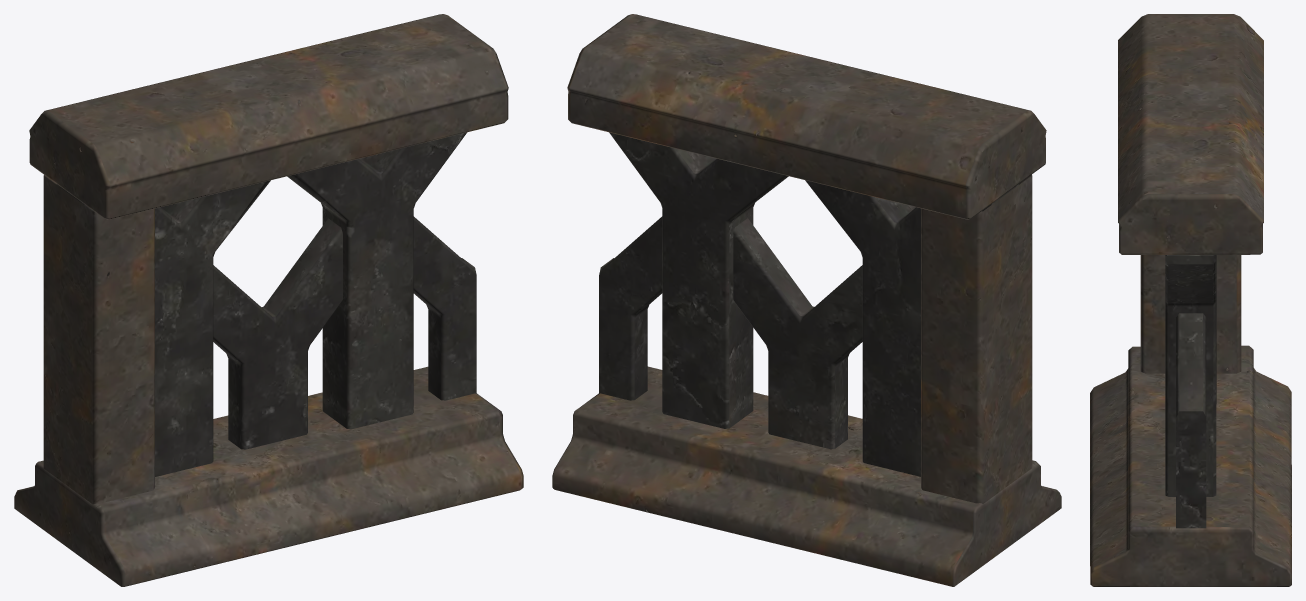
3 renders of one model, left to right at view 1: azimuth 30°, elevation 25°; view 2: azimuth 150°, elevation 25°; view 3: azimuth 270°, elevation 25°, orthographic. The views are drawn at different scales.
Visible parts, largest first — view 1: SM_BB_T3_Extended_Barricade_End_LOD0; view 2: SM_BB_T3_Extended_Barricade_End_LOD0; view 3: SM_BB_T3_Extended_Barricade_End_LOD0.
Part boxes in pixels (bbox=[...]): SM_BB_T3_Extended_Barricade_End_LOD0: bbox=[14, 14, 523, 586]; SM_BB_T3_Extended_Barricade_End_LOD0: bbox=[552, 14, 1061, 586]; SM_BB_T3_Extended_Barricade_End_LOD0: bbox=[1090, 14, 1291, 586].
Bounding box in the file's own units: 1.51 × 1.5 × 0.7006.
Materials: 2 (2 with a texture image).
